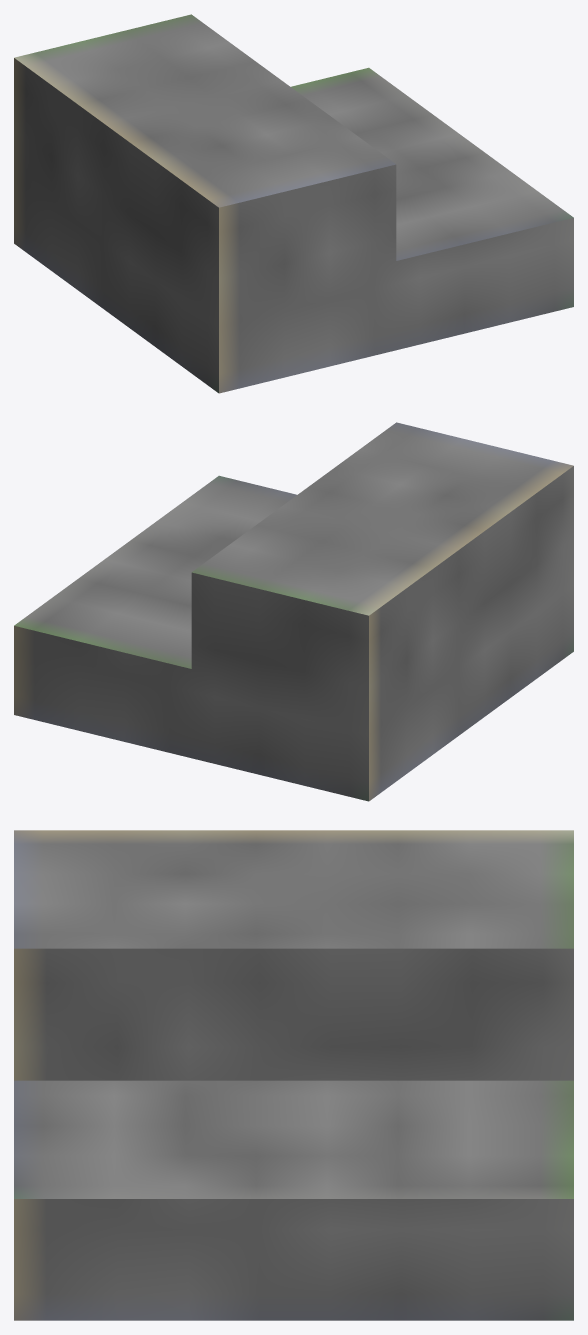
The model's file is Stone_Destroy_Step4.fbx.
3 renders of one model, top to bottom at view 1: azimuth 30°, elevation 25°; view 2: azimuth 150°, elevation 25°; view 3: azimuth 270°, elevation 25°, orthographic. The views are drawn at different scales.
Parts seen in each view (by area): view 1: Stone_Destroy_Step4; view 2: Stone_Destroy_Step4; view 3: Stone_Destroy_Step4.
Boxes of the visible parts, bbox=[...] form: Stone_Destroy_Step4: bbox=[14, 14, 573, 393]; Stone_Destroy_Step4: bbox=[14, 422, 573, 801]; Stone_Destroy_Step4: bbox=[14, 830, 573, 1320].
Bounding box in the file's own units: 25 × 12.5 × 25.
Materials: 1 (1 with a texture image).
